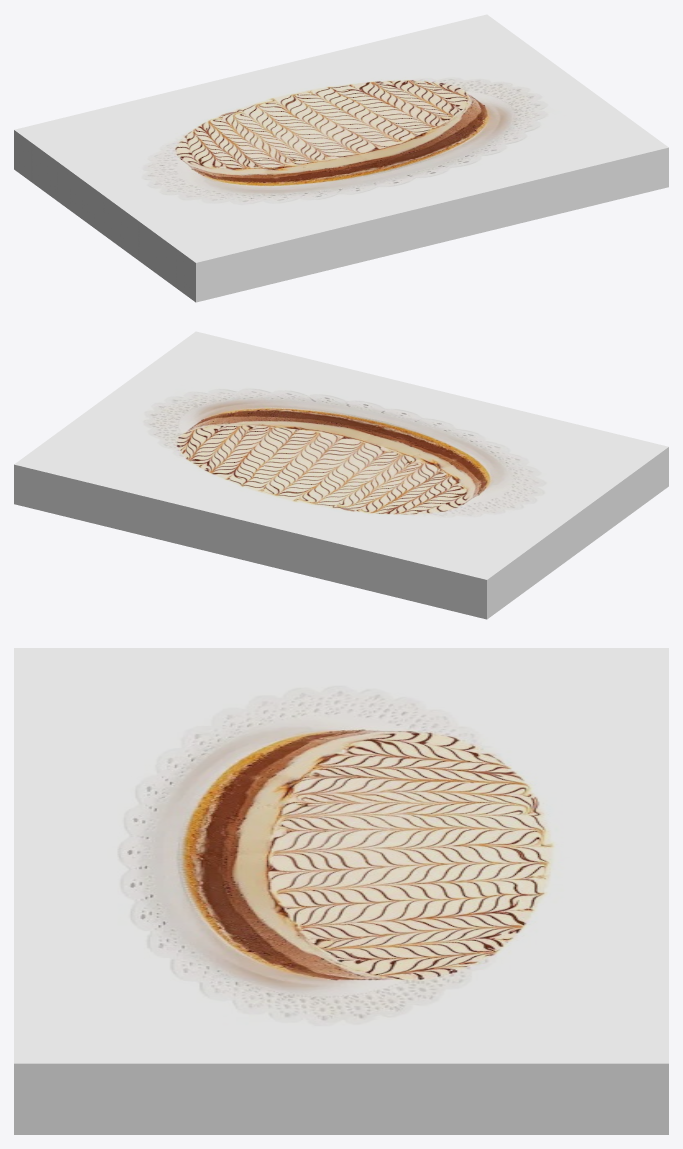
File: treschocolates.glb
3 renders of one model, top to bottom at view 1: azimuth 30°, elevation 25°; view 2: azimuth 150°, elevation 25°; view 3: azimuth 270°, elevation 25°, orthographic. The views are drawn at different scales.
Size of the model in its own units: 0.1 by 0.008 by 0.0666.
1 material, 1 textured.
